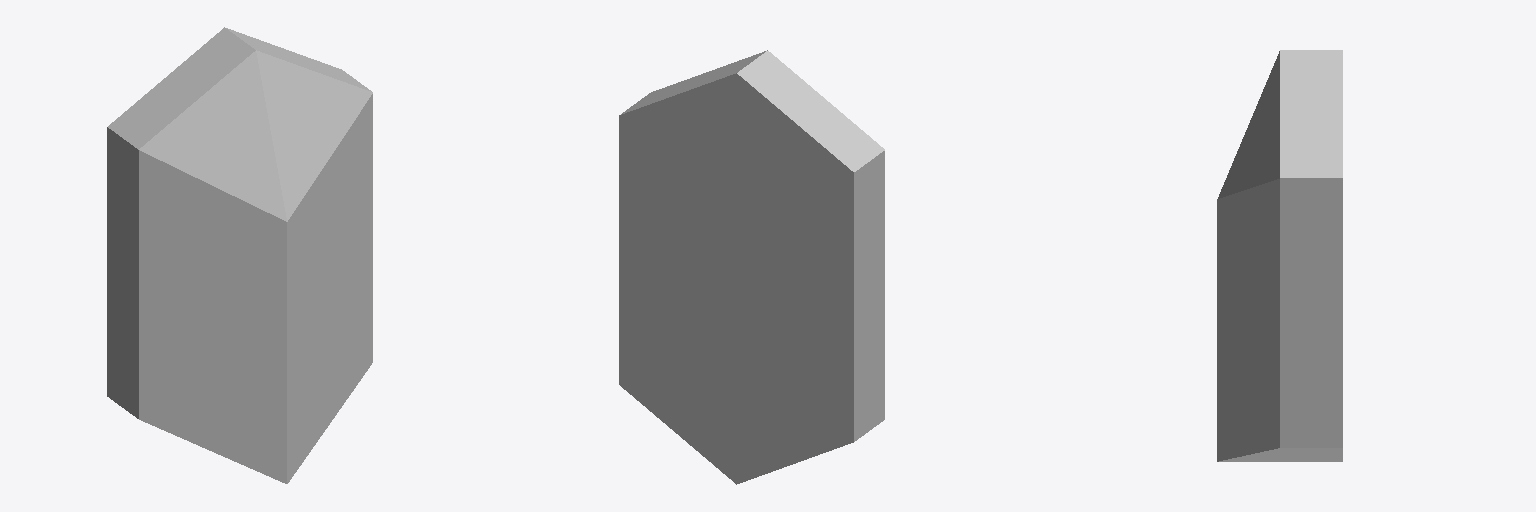
File: Wings Center.obj
The picture shows the model from 3 angles: view 1: azimuth 30°, elevation 25°; view 2: azimuth 150°, elevation 25°; view 3: azimuth 270°, elevation 25°; orthographic projection.
Parts seen in each view (by area): view 1: Wings Center; view 2: Wings Center; view 3: Wings Center.
Part boxes in pixels (left/top/right/bottom): Wings Center: left=107, top=27, right=372, bottom=483; Wings Center: left=619, top=50, right=884, bottom=484; Wings Center: left=1217, top=50, right=1342, bottom=461.
Bounding box in the file's own units: 0.433 × 0.725 × 0.2.